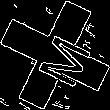M_NW: (22, 23, 88, 87)
